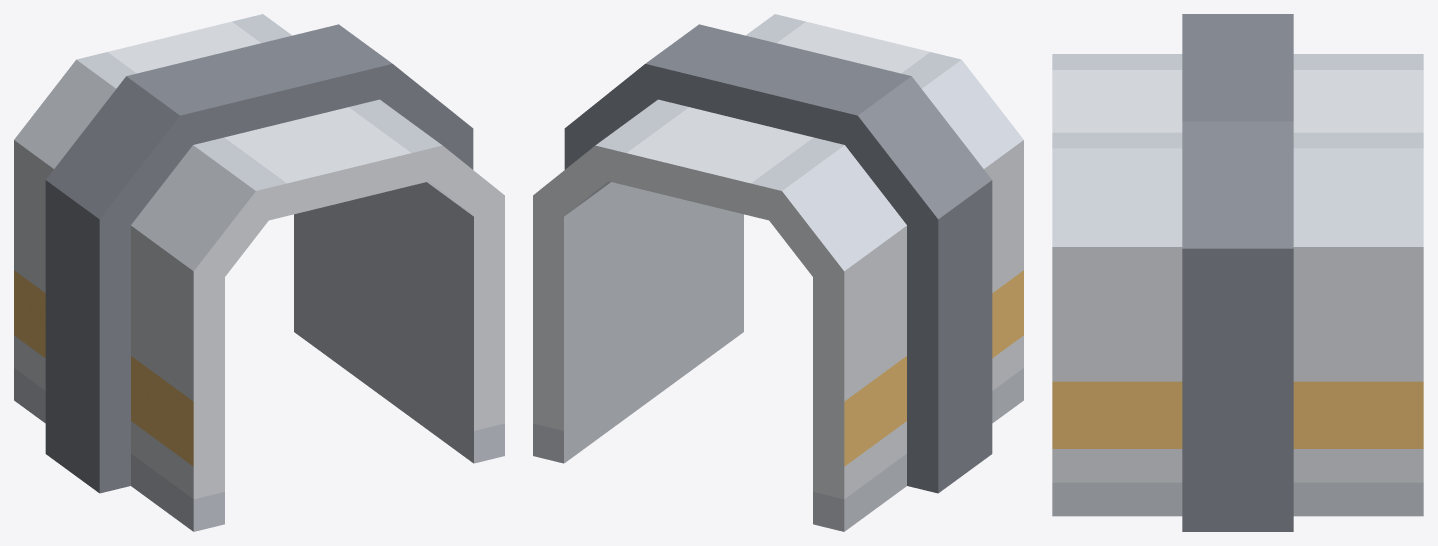
File: corridor_detailed.glb
The picture shows the model from 3 angles, left to right: view 1: azimuth 30°, elevation 25°; view 2: azimuth 150°, elevation 25°; view 3: azimuth 270°, elevation 25°; orthographic projection. The views are drawn at different scales.
Parts seen in each view (by area): view 1: corridor_detailed; view 2: corridor_detailed; view 3: corridor_detailed.
Boxes of the visible parts, x1,y1,x2,y2 form: corridor_detailed: (14, 14, 504, 531); corridor_detailed: (533, 14, 1023, 531); corridor_detailed: (1052, 14, 1423, 531).
Bounding box in the file's own units: 1.2 × 1.1 × 1.
